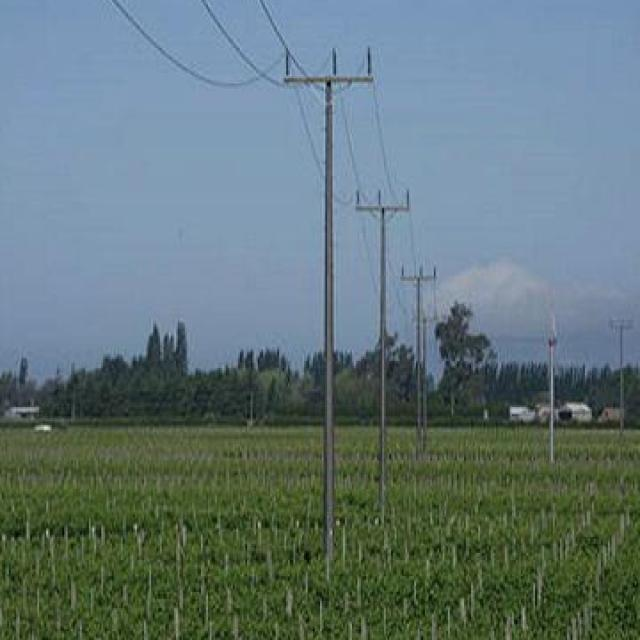non-critical vegetation: (263, 32, 386, 537)
